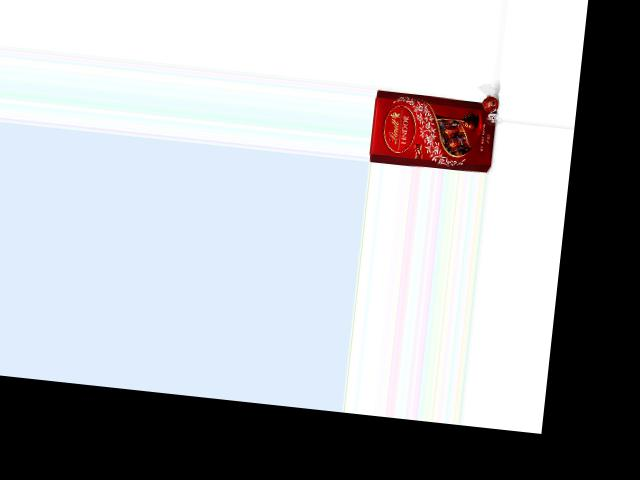chocolate: (369, 82, 498, 173)
